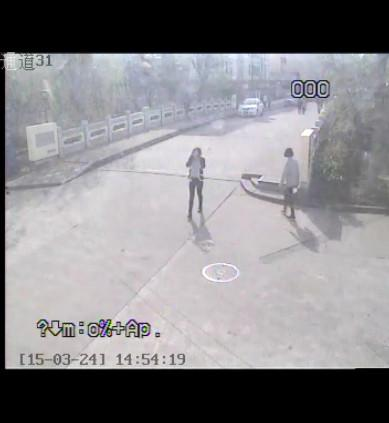person: (278, 145, 301, 219), (185, 146, 207, 221), (296, 98, 309, 116)
